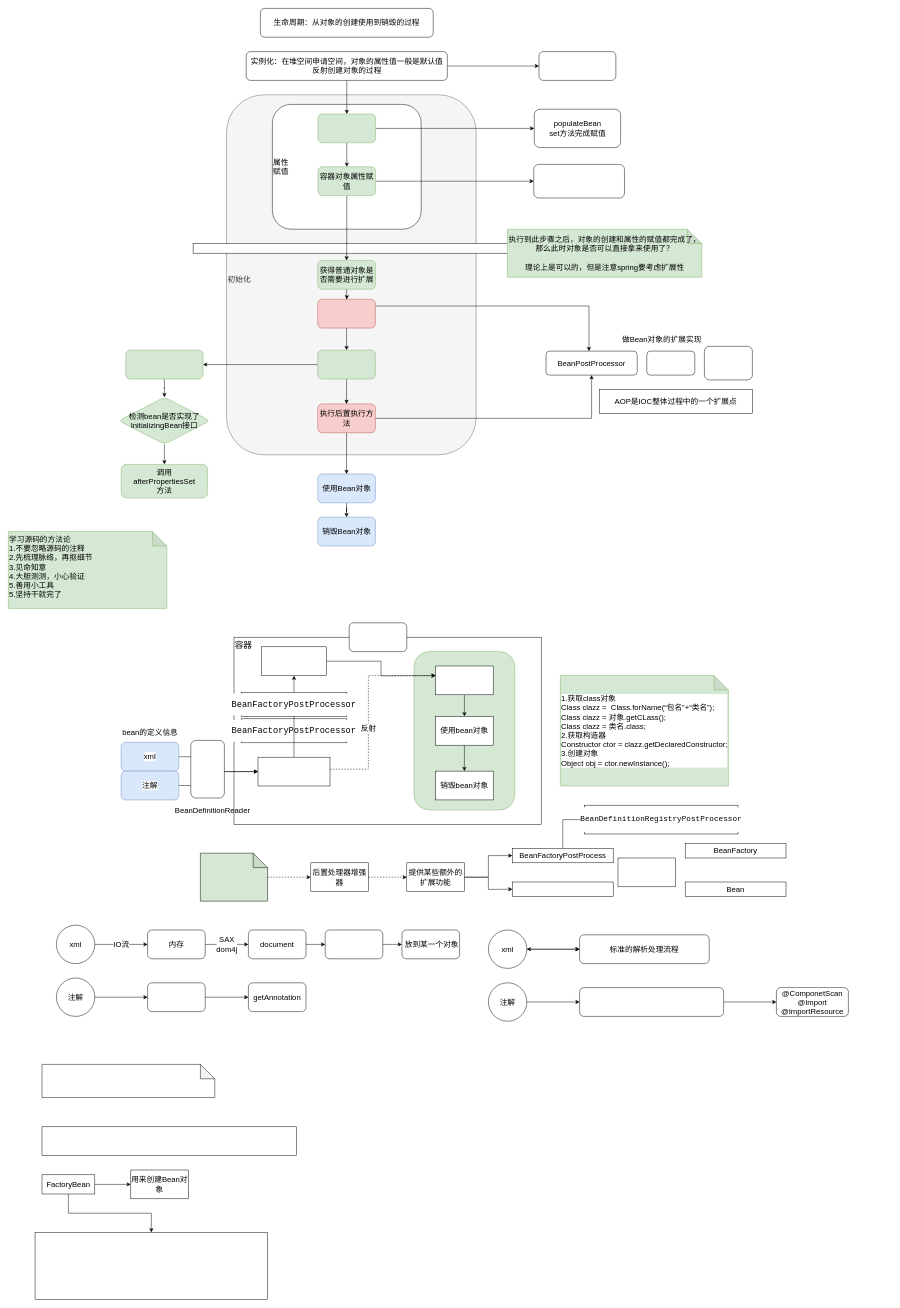
Some shapes in this 900 by 1308 pixel diagram are drawn without their labels. The box of each missing label's shape, as (x1, y1, x2, y2) in pixels:
AOP: (646, 351, 695, 375)
BeanDefinition Bean的定义信息 放到一个map里: (258, 757, 330, 786)
BeanFactory 约等于容器: (349, 622, 407, 652)
BeanFactory:并不是指接口，而是Bean对象创建的整体流程，Bean的生命周期是一个完整的流程，相对比较麻烦: (42, 1126, 296, 1156)
BeanFactory和FactoryBean的区别: (42, 1064, 215, 1098)
BeanPostProcess: (512, 882, 613, 896)
Class对象: (147, 982, 205, 1012)
creatBeanInstance 反射创建对象: (539, 51, 616, 80)
invokeAwareMethods: (533, 164, 624, 198)
invokeInitMethods: (125, 350, 203, 379)
node: (325, 930, 383, 959)
postProcess: (200, 853, 268, 901)
全部推倒重写 or 在原来的基础上做扩展: (579, 987, 724, 1016)
创建bean对象: (435, 666, 493, 695)
动态代理 jdk cglib: (704, 346, 752, 380)
完整的Bean对象: (261, 646, 326, 676)
对应不同的功能: (618, 858, 676, 887)
执行初始化方法: (317, 350, 375, 379)
执行前置执行方法: (317, 299, 375, 328)
接口 约束、规范: (190, 740, 224, 798)
自定义属性赋值: (318, 114, 376, 143)
